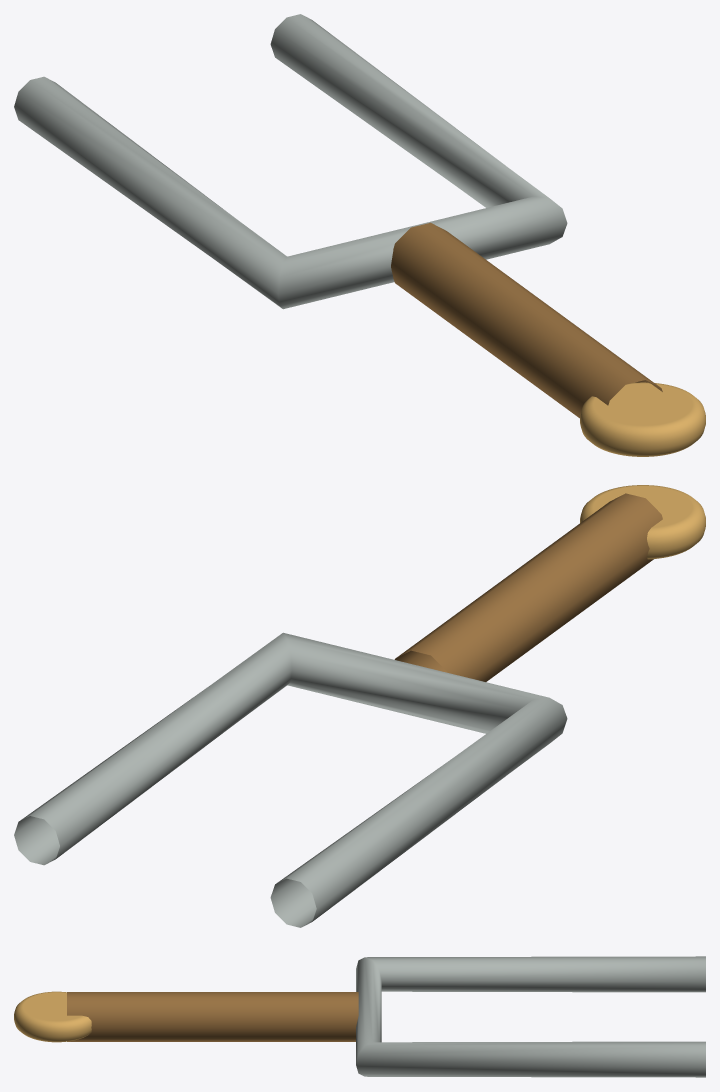
File: lighting-tuning-fork-v1.glb
3 views of the same model, one above another, from view 1: azimuth 30°, elevation 25°; view 2: azimuth 150°, elevation 25°; view 3: azimuth 270°, elevation 25° (orthographic). The views are drawn at different scales.
Parts seen in each view (by area): view 1: TuningFork, ForkHandle, ForkPommel; view 2: TuningFork, ForkHandle, ForkPommel; view 3: TuningFork, ForkHandle, ForkPommel.
Boxes of the visible parts, x1=… form: TuningFork: x1=14, y1=14, x2=567, y2=309; ForkHandle: x1=391, y1=222, x2=662, y2=418; ForkPommel: x1=580, y1=382, x2=705, y2=456; TuningFork: x1=14, y1=632, x2=567, y2=927; ForkHandle: x1=394, y1=493, x2=662, y2=681; ForkPommel: x1=580, y1=485, x2=705, y2=559; TuningFork: x1=356, y1=956, x2=705, y2=1077; ForkHandle: x1=67, y1=992, x2=358, y2=1041; ForkPommel: x1=14, y1=991, x2=91, y2=1042.
Size of the model in its own units: 0.472 by 0.0951 by 1.37.
